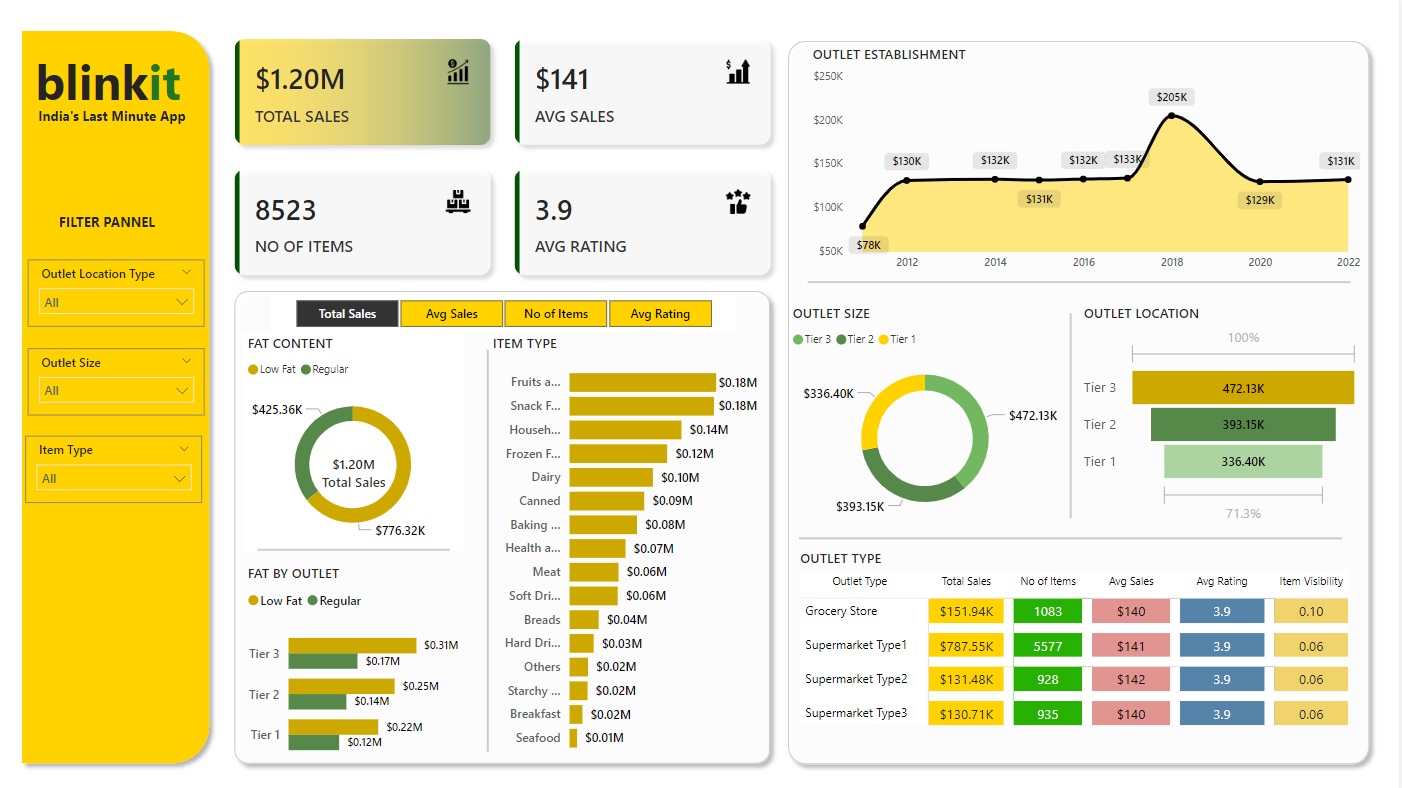

The page's visual inventory and layout, read from the dashboard file:
{"tool":"powerbi","page":{"name":"Page 1","canvas":[1400,800],"ordinal":0},"visuals":[{"type":"shape","box":[13.5,25.5,205.6,750.4],"z":0},{"type":"textbox","box":[31.5,46.5,171.1,90.1],"z":1000},{"type":"textbox","box":[27,105.1,171.1,31.5],"z":2000},{"type":"cardVisual","fields":{"Data":["BlinkIT Grocery Data.Total Sales","BlinkIT Grocery Data.Avg Sales","BlinkIT Grocery Data.No of Items","BlinkIT Grocery Data.Avg Rating"]},"box":[219.1,25.5,570.3,270.2],"z":3000},{"type":"shape","box":[226.6,285.2,553.8,490.8],"z":4000},{"type":"donutChart","title":"FAT CONTENT","fields":{"Y":["BlinkIT Grocery Data.Total Sales"],"Category":["BlinkIT Grocery Data.Item Fat Content"]},"box":[243.1,336.2,220.6,217.6],"z":5000},{"type":"slicer","fields":{"Values":["Metrics.Metrics"]},"box":[271.7,295.7,465.3,40.5],"z":6000},{"type":"cardVisual","fields":{"Data":["BlinkIT Grocery Data.Total Sales"]},"box":[303.2,441.3,102.1,64.5],"z":7000},{"type":"clusteredBarChart","title":"FAT BY OUTLET","fields":{"Y":["BlinkIT Grocery Data.Total Sales"],"Category":["BlinkIT Grocery Data.Outlet Location Type"],"Series":["BlinkIT Grocery Data.Item Fat Content"]},"box":[243.1,565.8,220.6,210.1],"z":8000},{"type":"shape","box":[258.1,532.8,192.1,40.5],"z":9000},{"type":"shape","box":[474.3,352.7,30,402.2],"z":10000},{"type":"barChart","title":"ITEM TYPE","fields":{"Y":["BlinkIT Grocery Data.Total Sales"],"Category":["BlinkIT Grocery Data.Item Type"]},"box":[489.3,336.2,274.7,429.2],"z":11000},{"type":"shape","box":[780.2,34.9,599.2,741.3],"z":12000},{"type":"lineChart","title":"OUTLET ESTABLISHMENT","fields":{"Y":["BlinkIT Grocery Data.Total Sales"],"Category":["BlinkIT Grocery Data.Outlet Establishment Year"]},"box":[808.3,46.9,557.6,234.6],"z":13000},{"type":"shape","box":[808.3,265.4,542.9,40.2],"z":14000},{"type":"donutChart","title":"OUTLET SIZE","fields":{"Y":["BlinkIT Grocery Data.Total Sales"],"Category":["BlinkIT Grocery Data.Outlet Location Type"]},"box":[788.2,305.6,274.8,225.2],"z":15000},{"type":"shape","box":[1056.3,316.4,30.8,205.1],"z":16000},{"type":"funnel","title":"OUTLET LOCATION","fields":{"Y":["Sum(BlinkIT Grocery Data.Sales)"],"Category":["BlinkIT Grocery Data.Outlet Location Type"]},"box":[1080.4,305.6,285.5,225.2],"z":17000},{"type":"shape","box":[800.3,521.5,542.9,40.2],"z":18000},{"type":"pivotTable","title":"OUTLET TYPE","fields":{"Rows":["BlinkIT Grocery Data.Outlet Type"],"Values":["BlinkIT Grocery Data.Total Sales","BlinkIT Grocery Data.No of Items","BlinkIT Grocery Data.Avg Sales","BlinkIT Grocery Data.Avg Rating","Avg(BlinkIT Grocery Data.Item Visibility)"]},"box":[796.3,550.9,569.7,214.5],"z":19000},{"type":"slicer","fields":{"Values":["BlinkIT Grocery Data.Outlet Location Type"]},"box":[28.2,262.7,176.9,67],"z":20000},{"type":"slicer","fields":{"Values":["BlinkIT Grocery Data.Outlet Size"]},"box":[28.2,351.2,176.9,67],"z":21000},{"type":"slicer","fields":{"Values":["BlinkIT Grocery Data.Item Type"]},"box":[26.8,438.3,176.9,67],"z":22000},{"type":"textbox","box":[55.5,211.6,118.6,36],"z":23000}]}

Visuals, with their boxes in screenshot pixels (x1, y1, x2, y2), scaled from the page's 1400x800 canvas onto the 1402x788 screenshot:
shape: bbox(14, 25, 219, 764)
textbox: bbox(32, 46, 203, 135)
textbox: bbox(27, 104, 198, 135)
cardVisual - BlinkIT Grocery Data.Total Sales x BlinkIT Grocery Data.Avg Sales: bbox(219, 25, 791, 291)
shape: bbox(227, 281, 782, 764)
"FAT CONTENT" donutChart: bbox(243, 331, 464, 545)
slicer - Metrics.Metrics: bbox(272, 291, 738, 331)
cardVisual - BlinkIT Grocery Data.Total Sales: bbox(304, 435, 406, 498)
"FAT BY OUTLET" clusteredBarChart: bbox(243, 557, 464, 764)
shape: bbox(258, 525, 451, 565)
shape: bbox(475, 347, 505, 744)
"ITEM TYPE" barChart: bbox(490, 331, 765, 754)
shape: bbox(781, 34, 1381, 765)
"OUTLET ESTABLISHMENT" lineChart: bbox(809, 46, 1368, 277)
shape: bbox(809, 261, 1353, 301)
"OUTLET SIZE" donutChart: bbox(789, 301, 1065, 523)
shape: bbox(1058, 312, 1089, 514)
"OUTLET LOCATION" funnel: bbox(1082, 301, 1368, 523)
shape: bbox(801, 514, 1345, 553)
"OUTLET TYPE" pivotTable: bbox(797, 543, 1368, 754)
slicer - BlinkIT Grocery Data.Outlet Location Type: bbox(28, 259, 205, 325)
slicer - BlinkIT Grocery Data.Outlet Size: bbox(28, 346, 205, 412)
slicer - BlinkIT Grocery Data.Item Type: bbox(27, 432, 204, 498)
textbox: bbox(56, 208, 174, 244)
